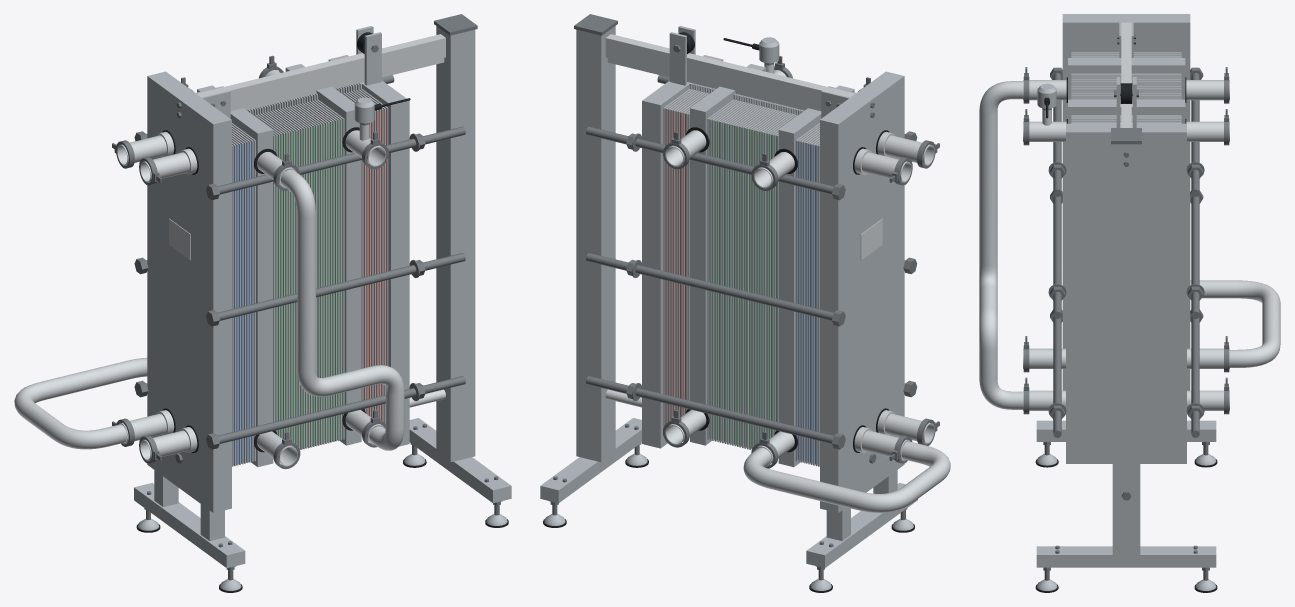
Rendered from plattenwaermetauscher.glb.
The picture shows the model from 3 angles, left to right: view 1: azimuth 30°, elevation 25°; view 2: azimuth 150°, elevation 25°; view 3: azimuth 270°, elevation 25°; orthographic projection. The views are drawn at different scales.
Parts seen in each view (by area): view 1: stativplattenkoerper, paket_rueckgewinnung, saeulenrohr, schlaufe_erhitzer, paket_kuehlung, paket_erhitzer, druckplattenkoerper, anschlussplatte_1_rahmen, tragprofil, anschlussplatte_2_rahmen, schlaufe_kuehlung, stativfuss_traeger (+14 smaller); view 2: stativplattenkoerper, paket_rueckgewinnung, saeulenrohr, paket_erhitzer, druckplattenkoerper, paket_kuehlung, anschlussplatte_2_rahmen, anschlussplatte_1_rahmen, schlaufe_kuehlung, tragprofil, saeulenfuss_traeger, bolzen_1_0.83 (+15 smaller); view 3: druckplattenkoerper, saeulenrohr, stativplattenkoerper, schlaufe_erhitzer, saeulenfuss_traeger, schlaufe_kuehlung, paket_rueckgewinnung, anschlussplatte_1_rahmen, anschlussplatte_2_rahmen, stativfuss_traeger, bolzen_-1_0.83, bolzen_1_0.83 (+17 smaller).
Part boxes in pixels (x1,y1,x2,y2): stativplattenkoerper: (147, 71, 231, 512); paket_rueckgewinnung: (247, 93, 344, 449); saeulenrohr: (436, 26, 475, 462); schlaufe_erhitzer: (280, 169, 404, 450); paket_kuehlung: (232, 123, 255, 466); paket_erhitzer: (336, 83, 388, 425); druckplattenkoerper: (328, 55, 409, 446); anschlussplatte_1_rahmen: (197, 85, 273, 466); tragprofil: (196, 34, 445, 109); anschlussplatte_2_rahmen: (285, 64, 361, 445); schlaufe_kuehlung: (14, 357, 147, 449); stativfuss_traeger: (134, 483, 245, 567); stativplattenkoerper: (820, 71, 904, 512); paket_rueckgewinnung: (707, 93, 804, 449); saeulenrohr: (576, 26, 615, 462); paket_erhitzer: (663, 83, 715, 427); druckplattenkoerper: (642, 55, 723, 448); paket_kuehlung: (795, 123, 819, 466); anschlussplatte_2_rahmen: (690, 64, 766, 445); anschlussplatte_1_rahmen: (778, 85, 854, 467); schlaufe_kuehlung: (743, 441, 950, 512); tragprofil: (605, 34, 854, 109); saeulenfuss_traeger: (540, 418, 641, 503); bolzen_1_0.83: (586, 253, 843, 322); druckplattenkoerper: (1066, 123, 1186, 463); saeulenrohr: (1112, 144, 1140, 556); stativplattenkoerper: (1062, 14, 1190, 390); schlaufe_erhitzer: (979, 81, 1022, 409); saeulenfuss_traeger: (1036, 546, 1216, 567); schlaufe_kuehlung: (1190, 280, 1280, 367); paket_rueckgewinnung: (1071, 73, 1181, 99); anschlussplatte_1_rahmen: (1068, 58, 1185, 99); anschlussplatte_2_rahmen: (1068, 99, 1185, 123); stativfuss_traeger: (1036, 420, 1216, 441); bolzen_-1_0.83: (1053, 196, 1061, 318); bolzen_1_0.83: (1191, 196, 1199, 318).
Size of the model in its own units: 1.26 by 1.49 by 0.8729.
8 materials, 1 textured.
